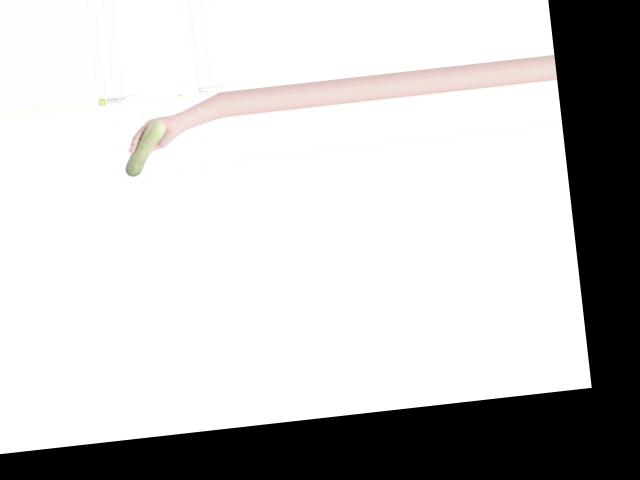cucumber: (121, 119, 170, 176)
